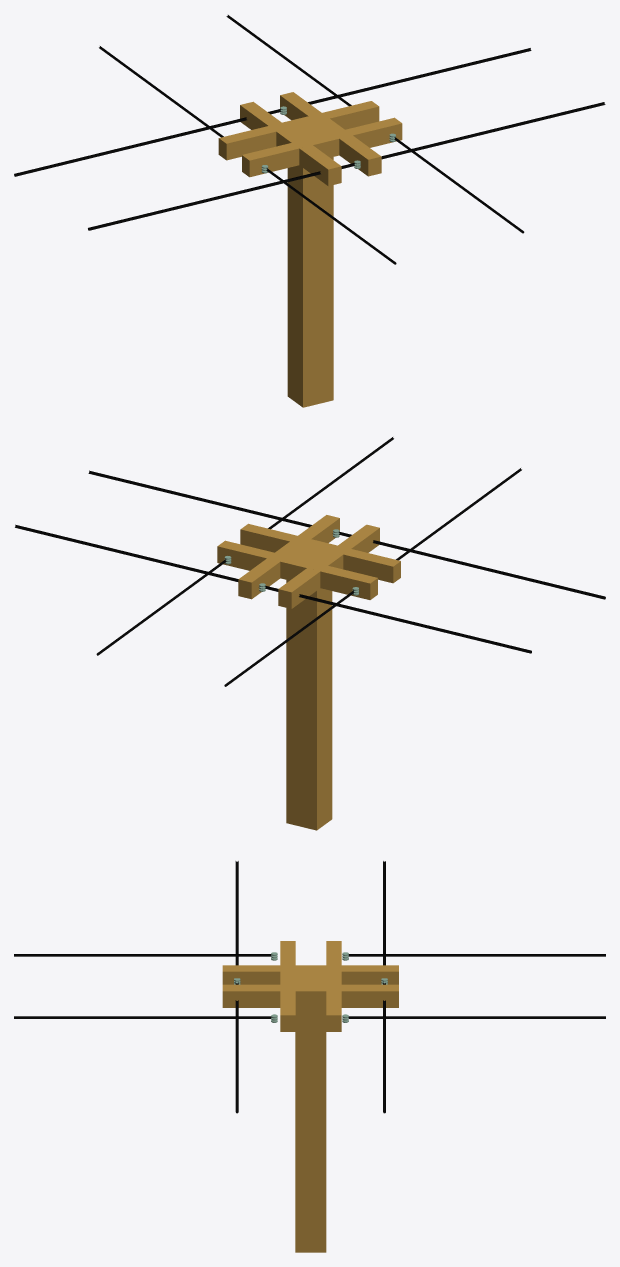
The picture shows the model from 3 angles, top to bottom: view 1: azimuth 30°, elevation 25°; view 2: azimuth 150°, elevation 25°; view 3: azimuth 270°, elevation 25°; orthographic projection.
Parts seen in each view (by area): view 1: WR28 | archived geometry, WR28 | line, light and sprite surfaces; view 2: WR28 | archived geometry, WR28 | line, light and sprite surfaces; view 3: WR28 | archived geometry, WR28 | line, light and sprite surfaces.
Part boxes in pixels (x1,y1,x2,y2): WR28 | archived geometry: [218, 92, 402, 407]; WR28 | line, light and sprite surfaces: [14, 15, 605, 264]; WR28 | archived geometry: [217, 515, 400, 830]; WR28 | line, light and sprite surfaces: [15, 437, 605, 686]; WR28 | archived geometry: [222, 941, 398, 1252]; WR28 | line, light and sprite surfaces: [14, 861, 605, 1113].
Bounding box in the file's own units: 16.16 × 8 × 16.07.
